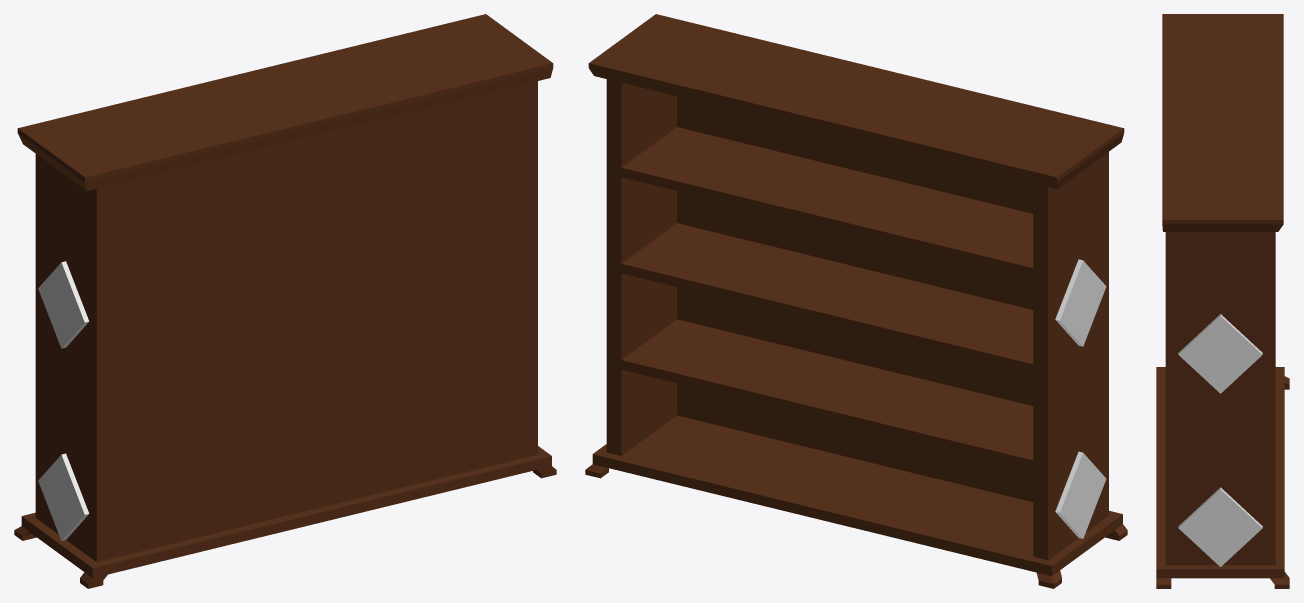
Rendered from bookshelf.fbx.
The picture shows the model from 3 angles, left to right: view 1: azimuth 30°, elevation 25°; view 2: azimuth 150°, elevation 25°; view 3: azimuth 270°, elevation 25°; orthographic projection. The views are drawn at different scales.
Parts seen in each view (by area): view 1: Cube; view 2: Cube; view 3: Cube.
Part boxes in pixels (x1,y1,x2,y2): Cube: (14, 14, 556, 588); Cube: (585, 14, 1127, 588); Cube: (1156, 14, 1289, 588).
Size of the model in its own units: 10.2 by 8.51 by 2.78.
